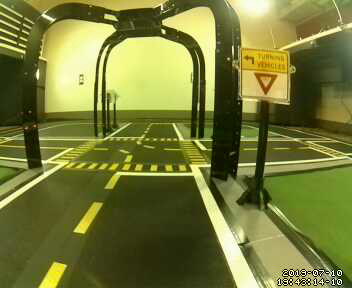Turn Yield: (237, 44, 293, 107)
